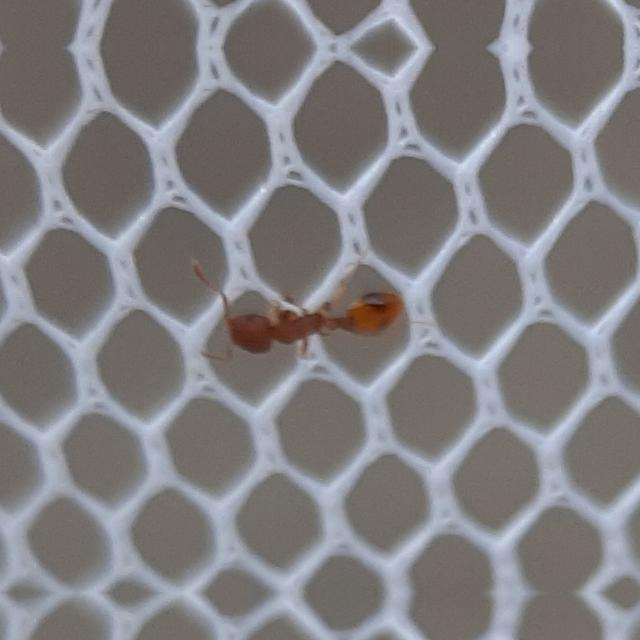Temnothorax: (190, 252, 426, 364)
